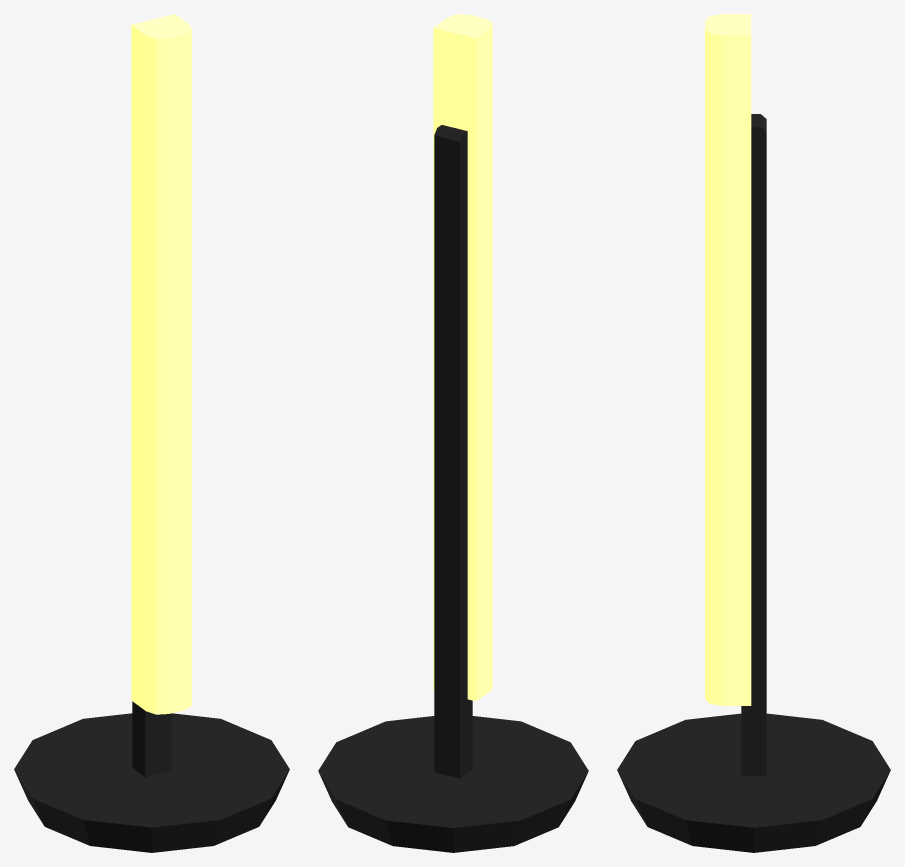
File: lamp_9.glb
The picture shows the model from 3 angles, left to right: view 1: azimuth 30°, elevation 25°; view 2: azimuth 150°, elevation 25°; view 3: azimuth 270°, elevation 25°; orthographic projection.
Parts seen in each view (by area): view 1: Desk Lamp; view 2: Desk Lamp; view 3: Desk Lamp.
Part boxes in pixels (x1,y1,x2,y2): Desk Lamp: (14,14,289,852); Desk Lamp: (318,14,588,852); Desk Lamp: (617,14,890,852).
Bounding box in the file's own units: 0.1532 × 0.4791 × 0.1532.
2 materials, 1 textured.
